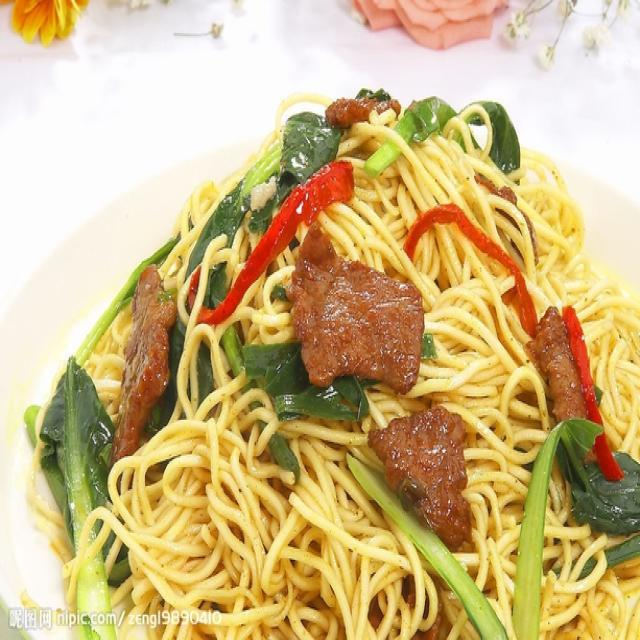面条主食: (7, 47, 632, 626)
